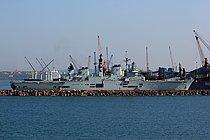MIL_Ship: (9, 54, 194, 90)
